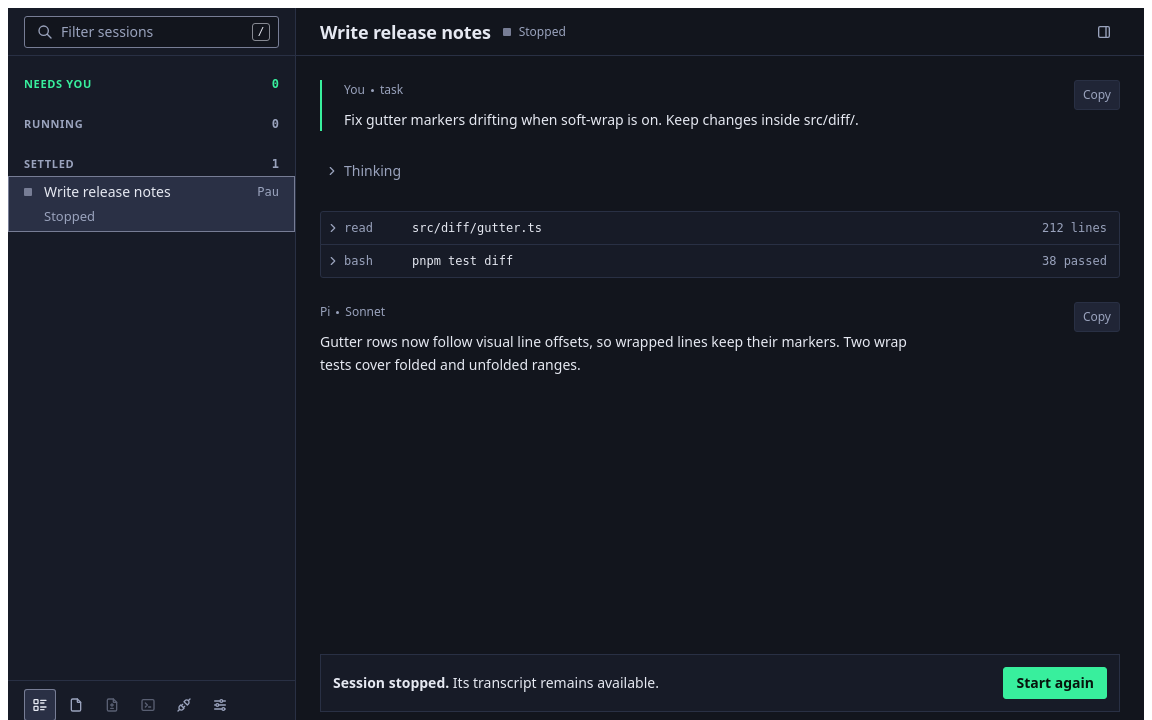
Test: shows why Start again failed
Click the button "Start again".
click(1055, 683)  # box 1003,667 -> 1107,699
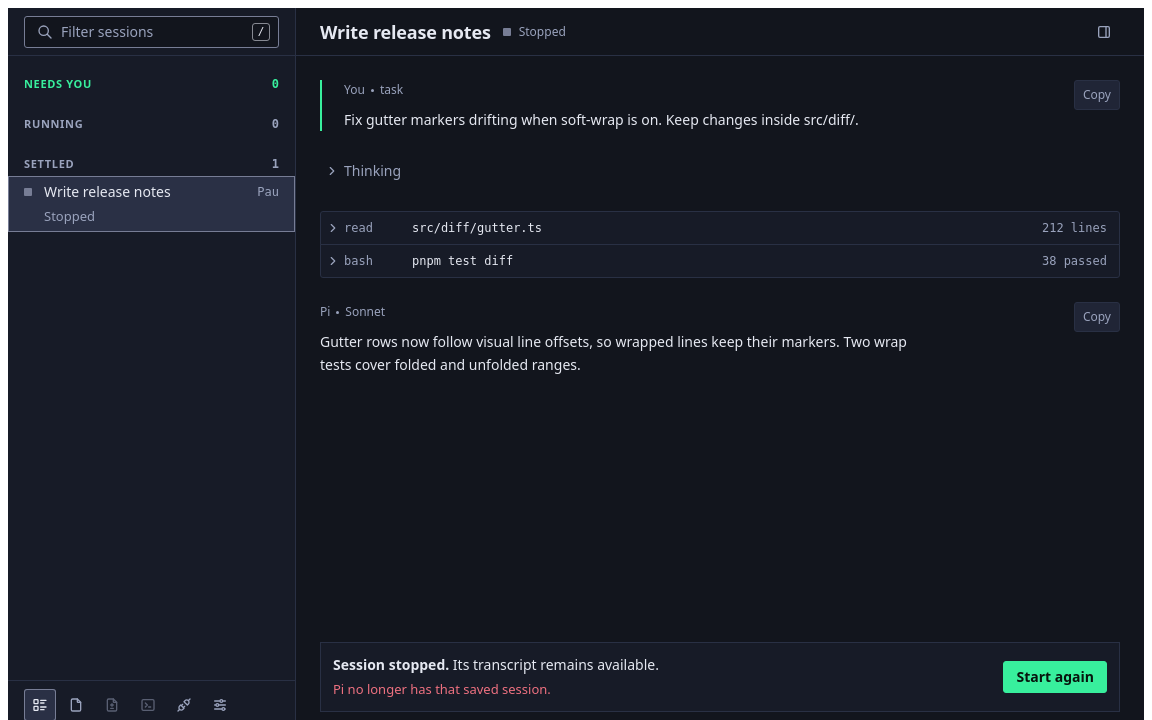
Expected: the message "Pi no longer has that saved session." is shown, 333,680 -> 551,698
